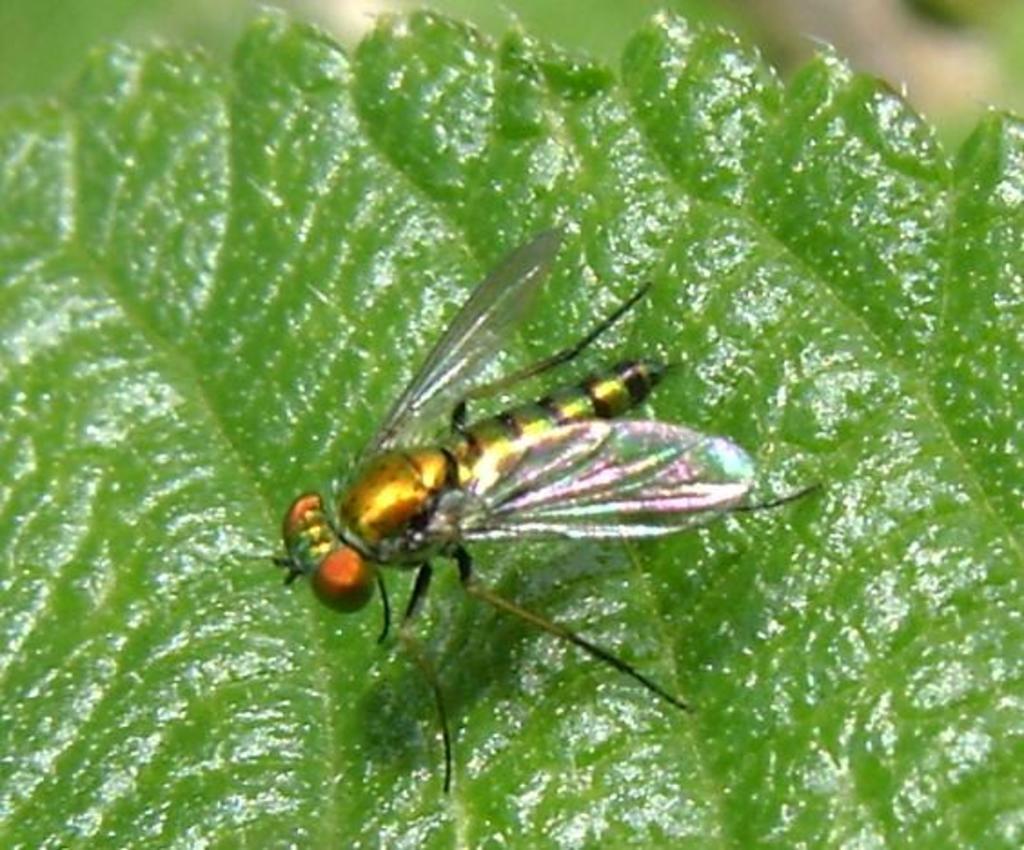person: (285, 358, 663, 649)
